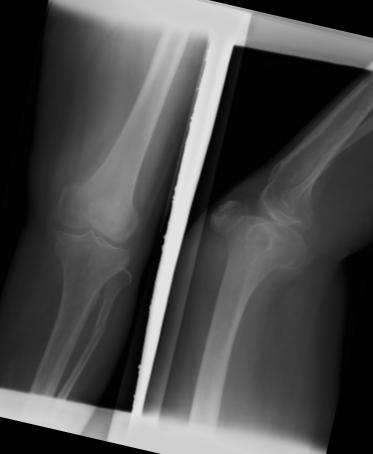fractured: (86, 319, 106, 346), (313, 148, 332, 170)
